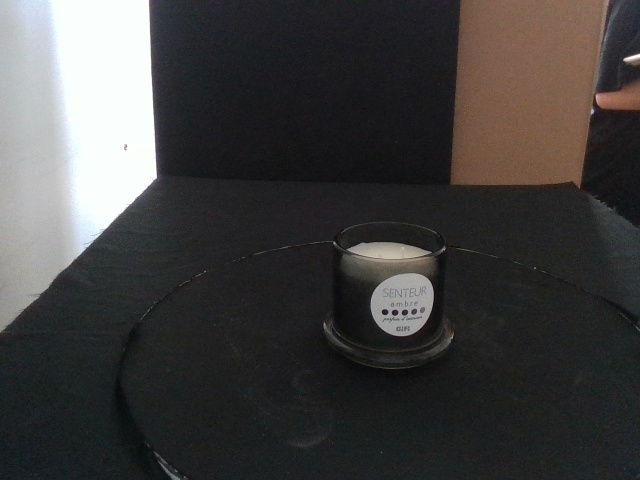candle: (321, 221, 457, 371)
